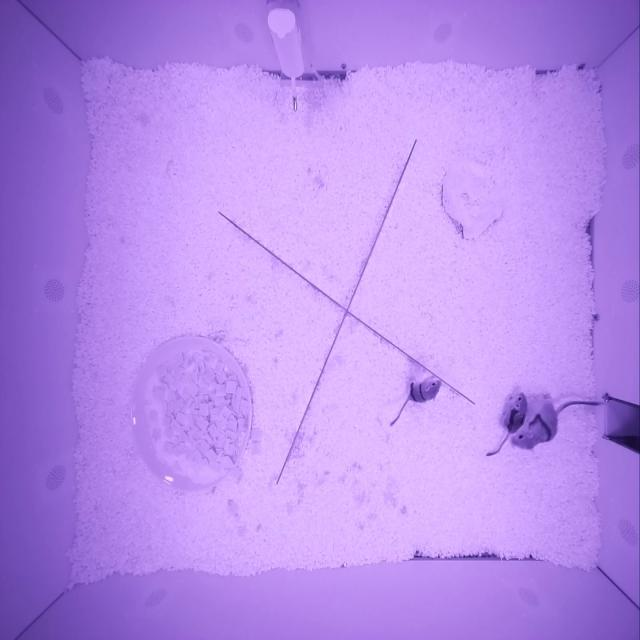adult_front: (511, 401, 558, 450)
pup_h_stripe: (408, 377, 442, 403)
pup_v_stripe: (503, 392, 527, 435)
